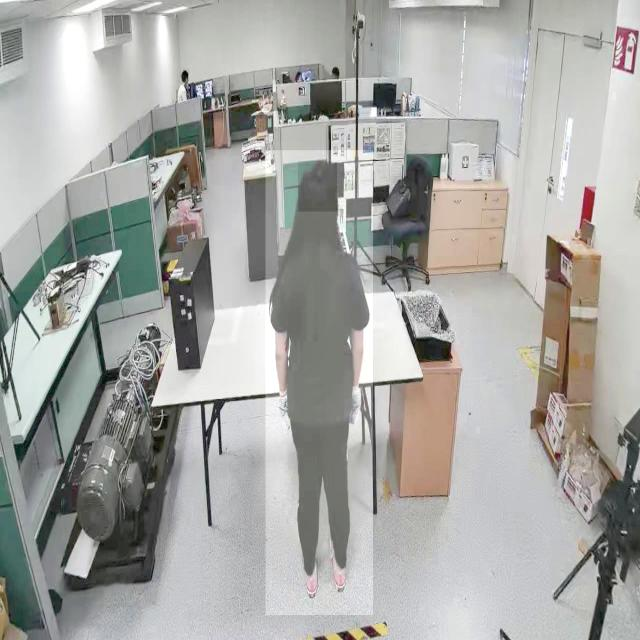head_nohelmet: (297, 161, 337, 212), (182, 68, 189, 76)
person: (265, 150, 373, 616)
shoes: (328, 531, 350, 593), (300, 539, 320, 599)
